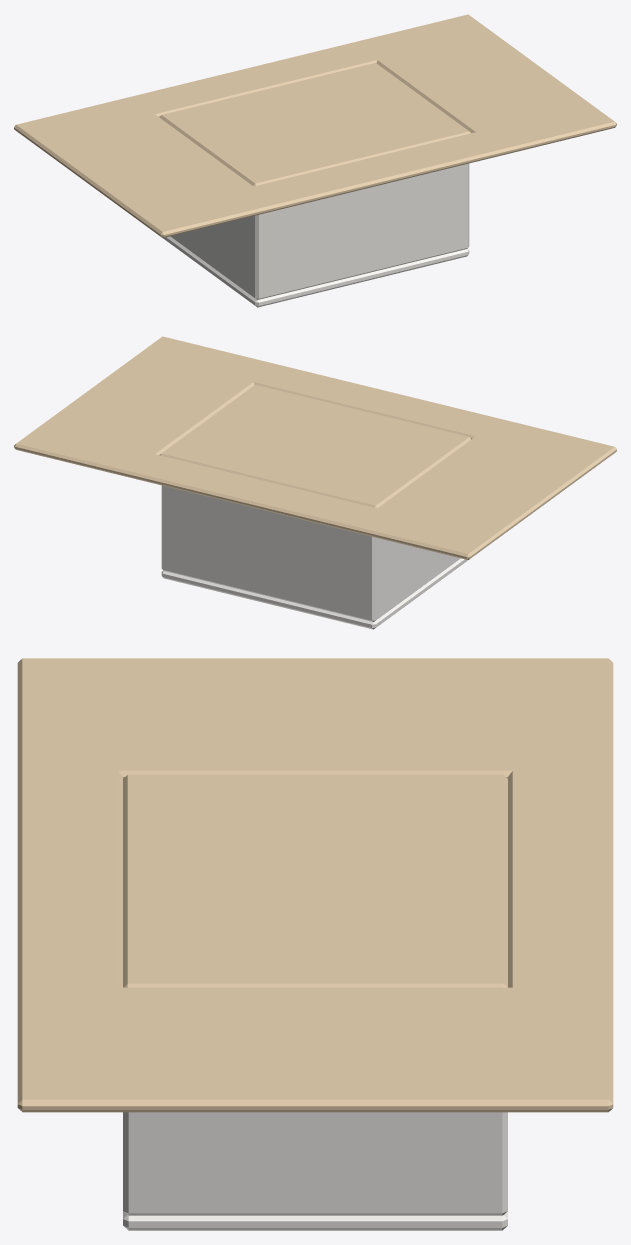
Rendered from FloorHatchStorage.glb.
3 renders of one model, top to bottom at view 1: azimuth 30°, elevation 25°; view 2: azimuth 150°, elevation 25°; view 3: azimuth 270°, elevation 25°, orthographic. The views are drawn at different scales.
Parts seen in each view (by area): view 1: FloorHatchStorage_Well, FloorHatchStorage_Hatch; view 2: FloorHatchStorage_Well, FloorHatchStorage_Hatch; view 3: FloorHatchStorage_Well, FloorHatchStorage_Hatch.
Boxes of the visible parts, x1,y1,x2,y2 form: FloorHatchStorage_Well: [14, 14, 616, 307]; FloorHatchStorage_Hatch: [159, 63, 471, 186]; FloorHatchStorage_Well: [14, 336, 616, 629]; FloorHatchStorage_Hatch: [159, 385, 471, 508]; FloorHatchStorage_Well: [17, 658, 613, 1230]; FloorHatchStorage_Hatch: [123, 774, 507, 987].
Bounding box in the file's own units: 2.3 × 0.6 × 1.3.
